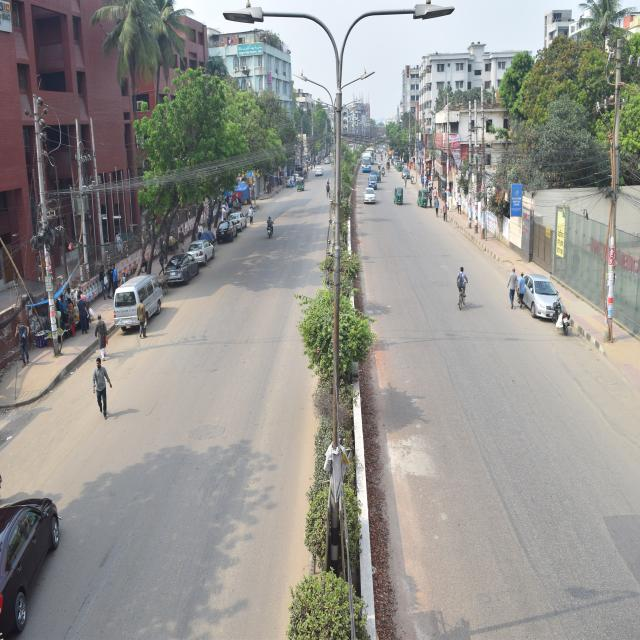bus: (361, 146, 371, 171)
car: (0, 485, 78, 640), (519, 268, 569, 330), (164, 252, 202, 292), (189, 240, 223, 268), (214, 220, 240, 248), (226, 206, 249, 234), (363, 185, 377, 207), (312, 162, 328, 180)
microbus: (109, 269, 165, 337)
motorbike: (551, 295, 575, 337), (263, 211, 281, 239)
pickup-van: (366, 170, 381, 189)
